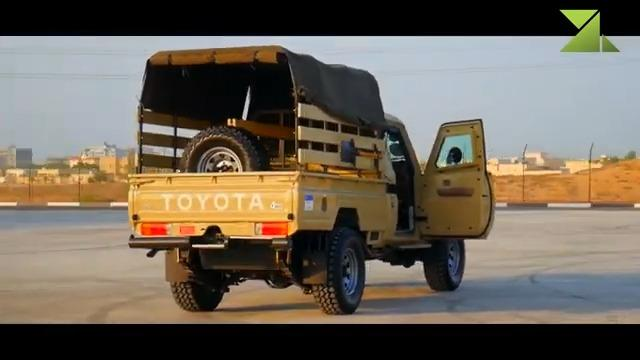MIL_HMMWV: (128, 47, 500, 310)
